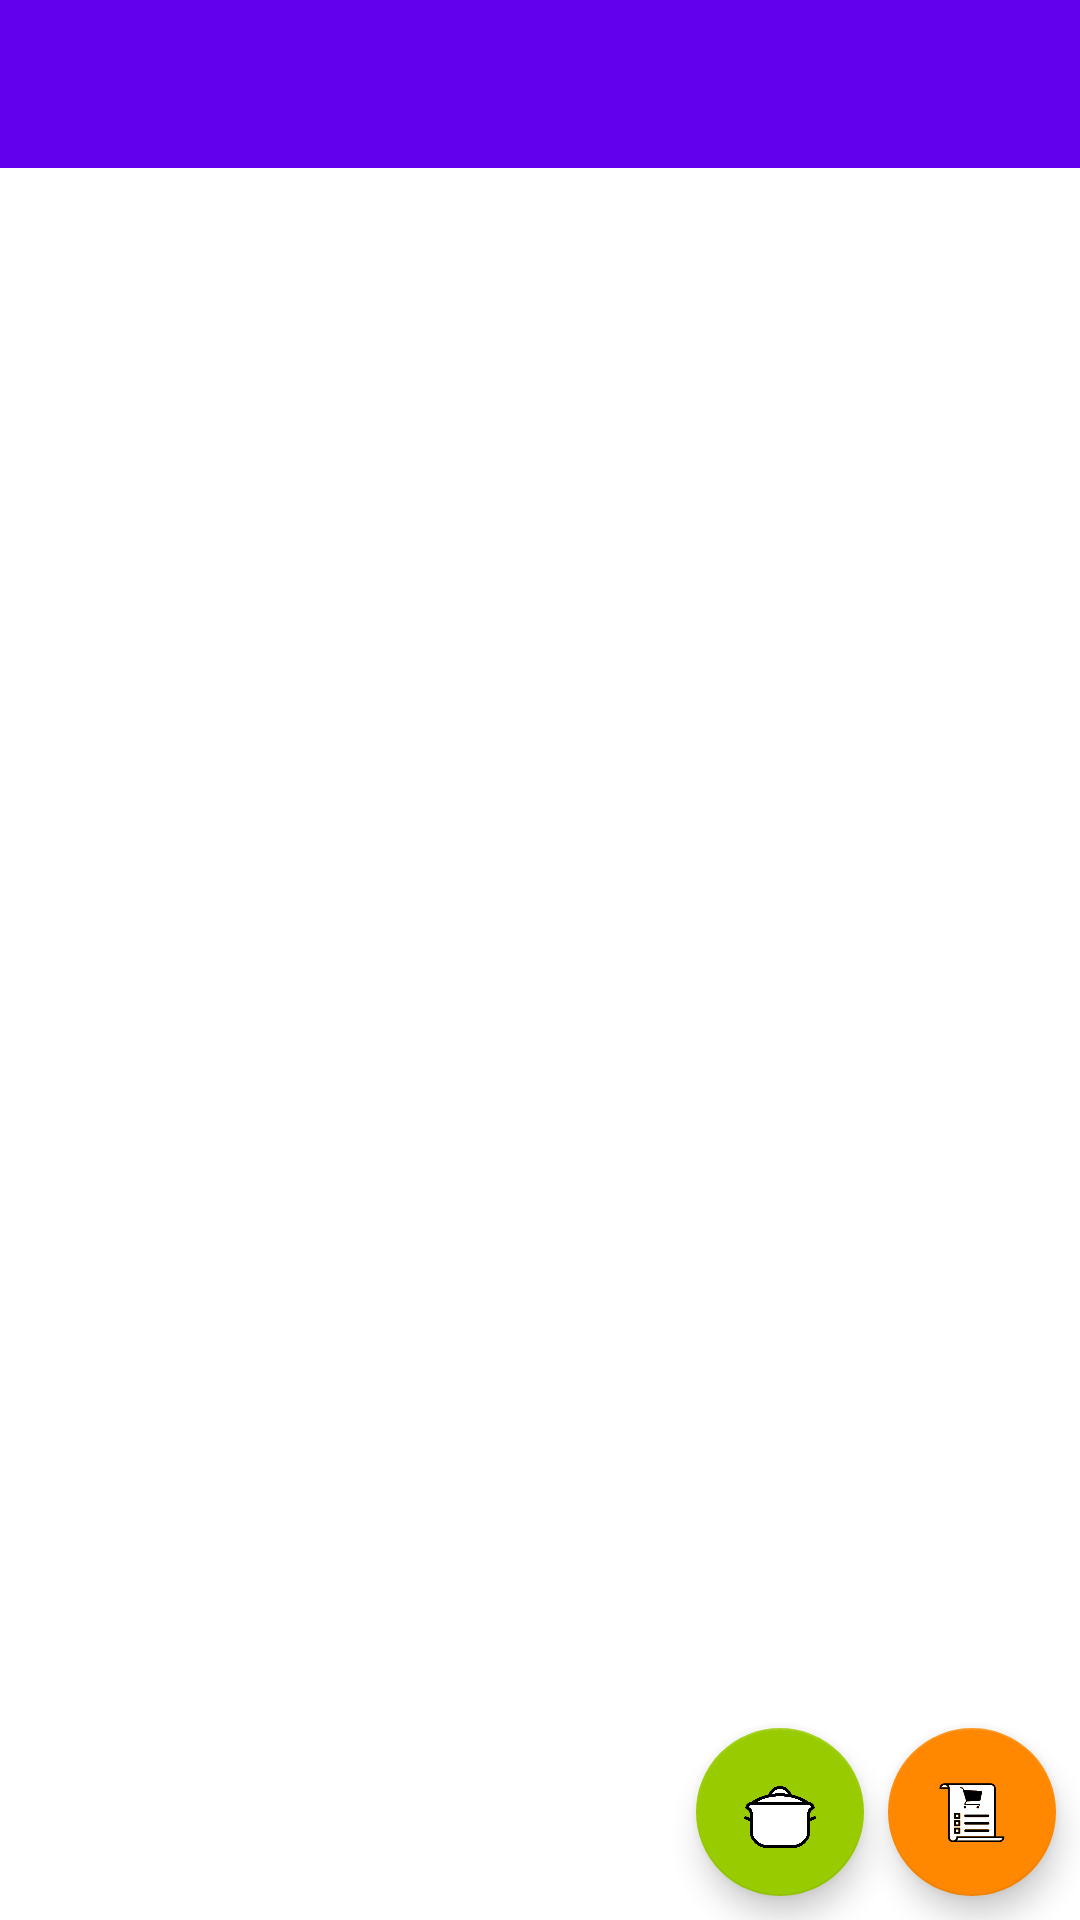

Screen size 1080×1920. Icon name, then its box in pixels as (x1, y1, x2, y2):
boiler pan: (696, 1728, 864, 1896)
shopping list: (888, 1728, 1056, 1896)
